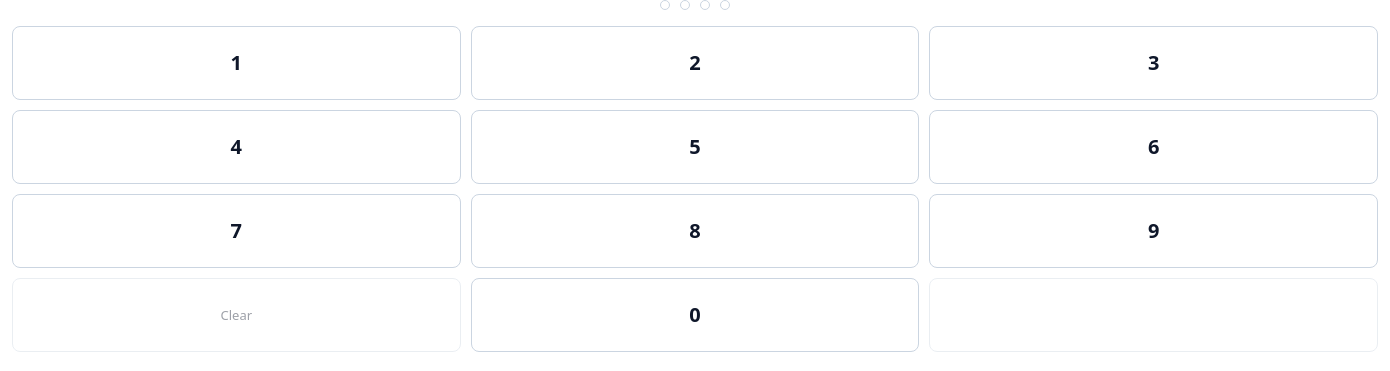
it: PinKeypad (L1 185:19312) › takes a digit back with Backspace and drops the lot with Clear
What coordinates should you click on to do the following:
click the button "4"
I would click on:
 (236, 147)
Its box is top-left (12, 110), bottom-right (461, 184).
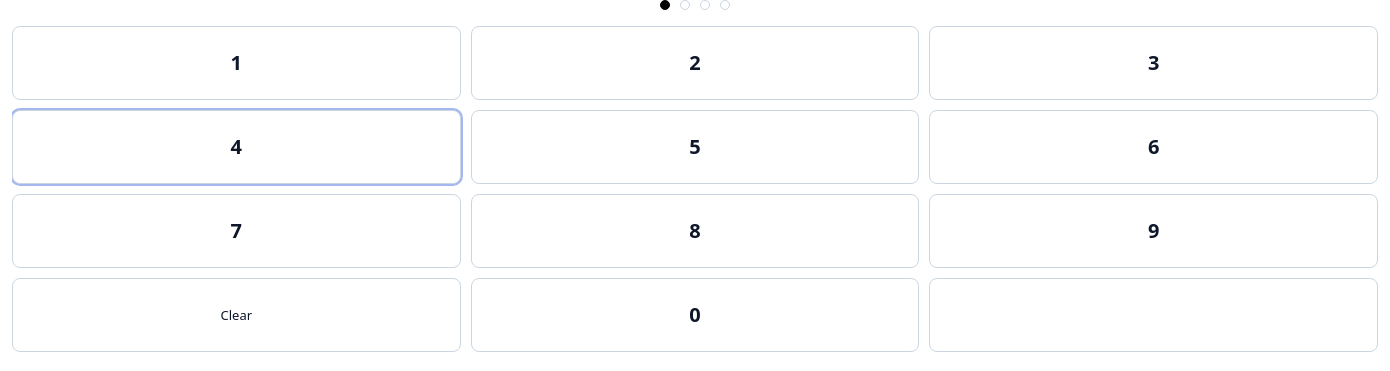
What coordinates should you click on to do the following:
click the button "8"
I would click on:
 (695, 231)
Its box is top-left (471, 194), bottom-right (919, 268).
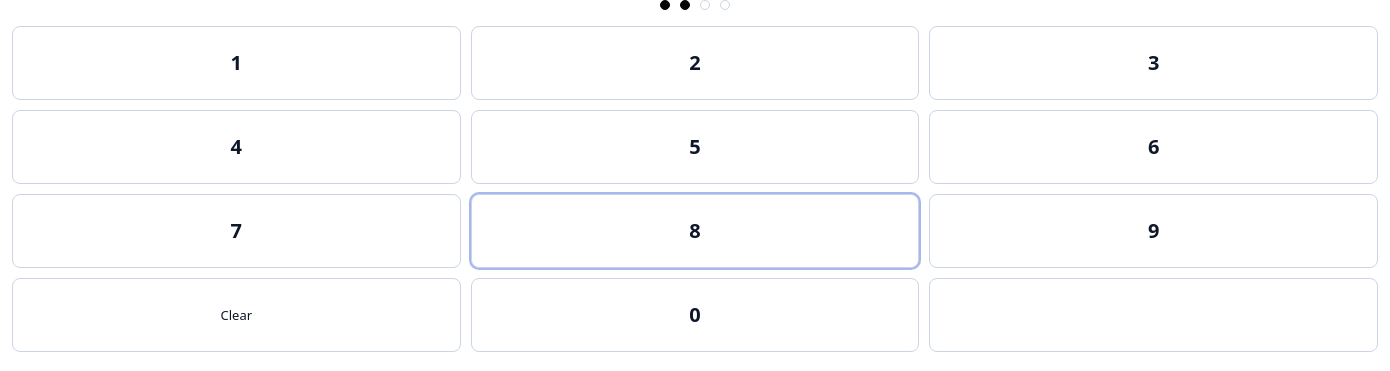
What coordinates should you click on to do the following:
click the button named "Backspace"
I would click on:
 (1154, 315)
Its box is top-left (929, 278), bottom-right (1378, 352).
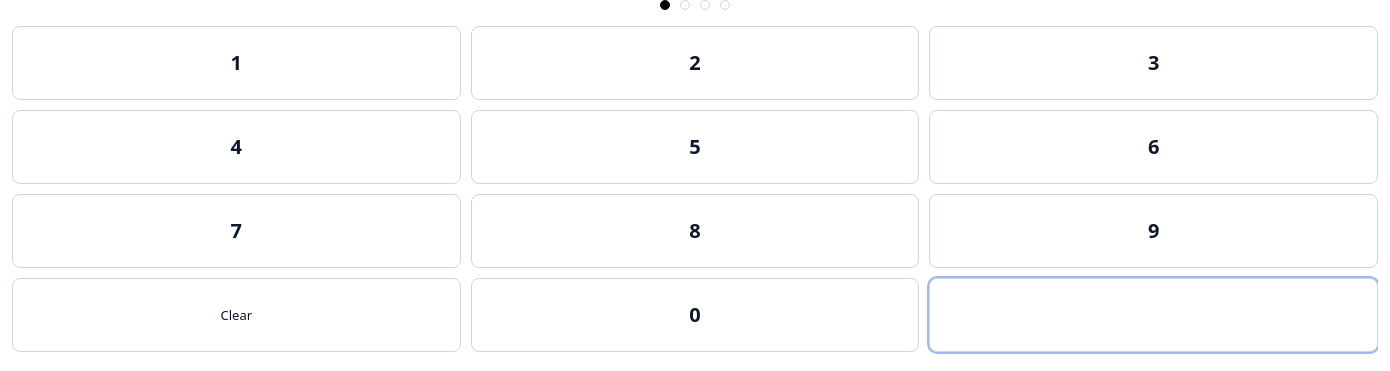
What coordinates should you click on to do the following:
click the button "Clear"
I would click on:
 (236, 315)
Its box is top-left (12, 278), bottom-right (461, 352).
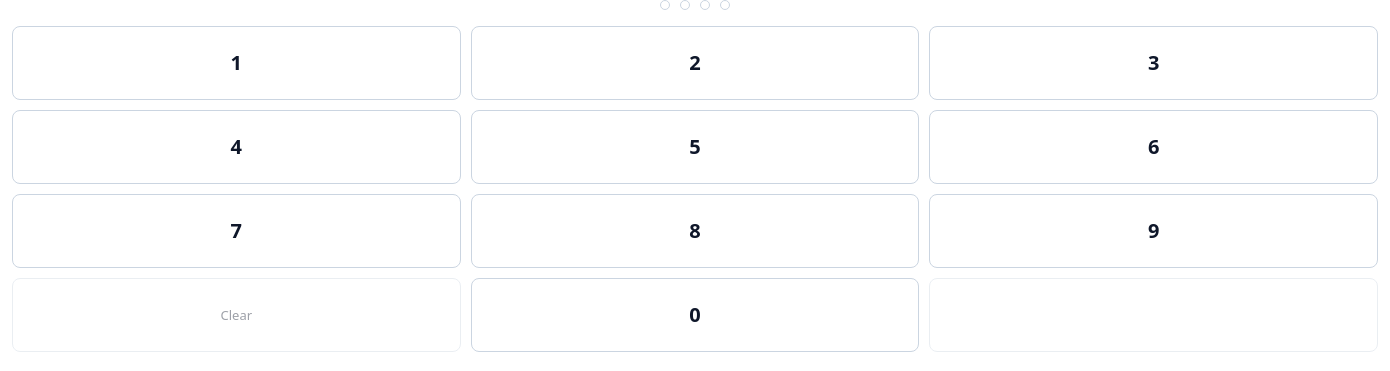
Expected: the button "Clear" is disabled, top-left (12, 278), bottom-right (461, 352)
